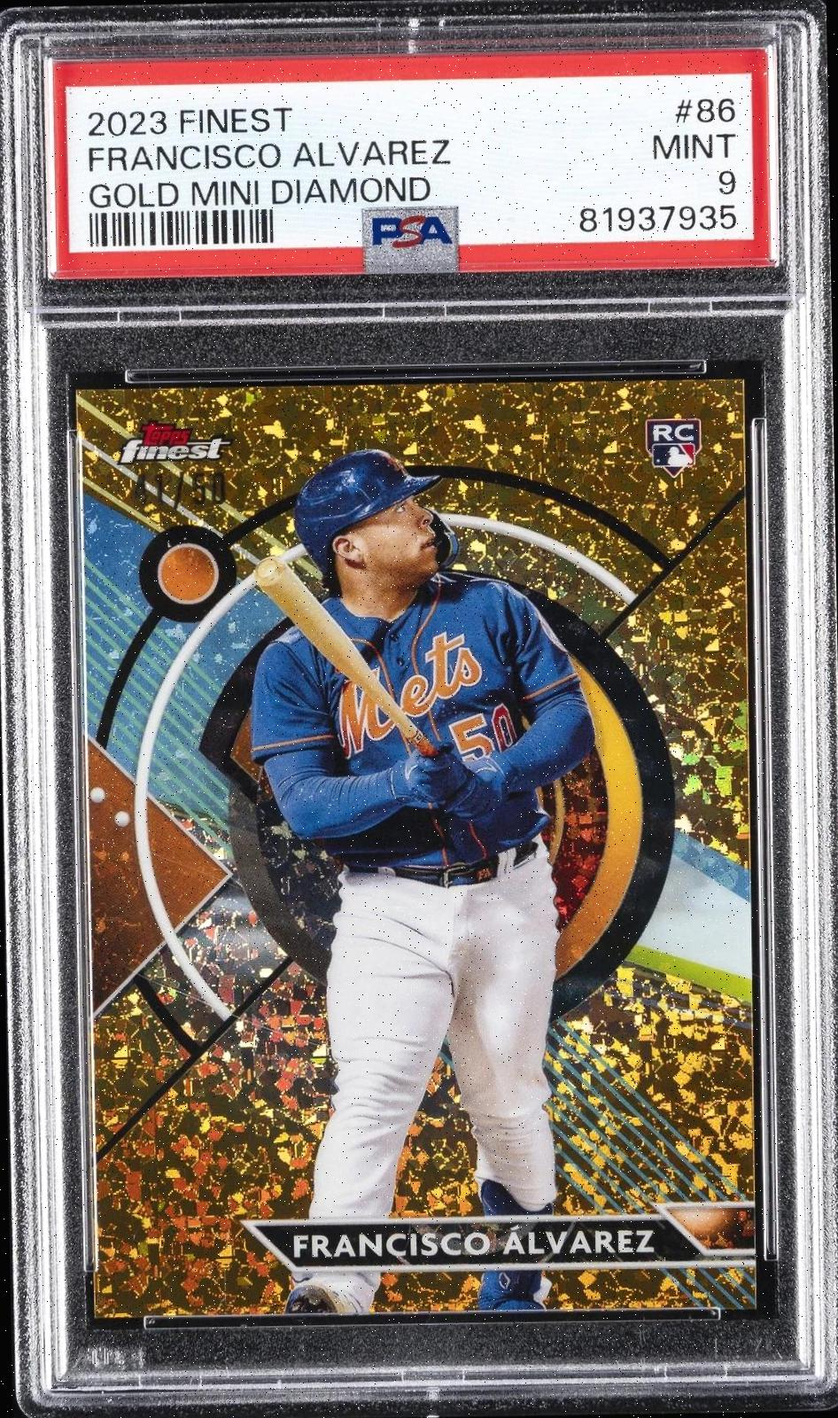card-2UtV: (75, 377, 757, 1319)
